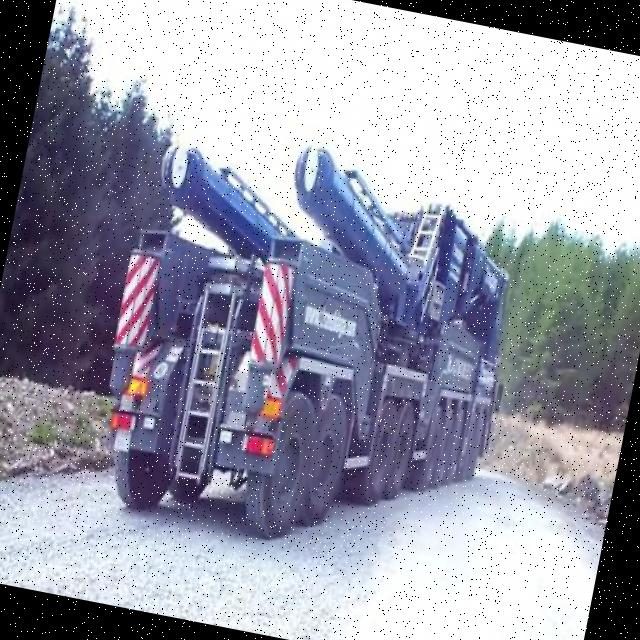Mobile Crane: (81, 114, 538, 574)
